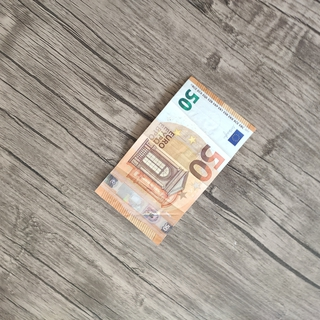50EUROFront: (93, 74, 259, 247)
